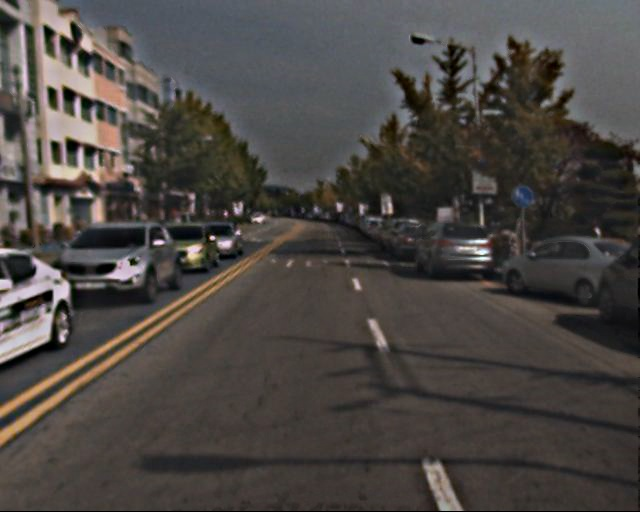person: (575, 213, 600, 274), (507, 208, 532, 268), (485, 209, 509, 267)
